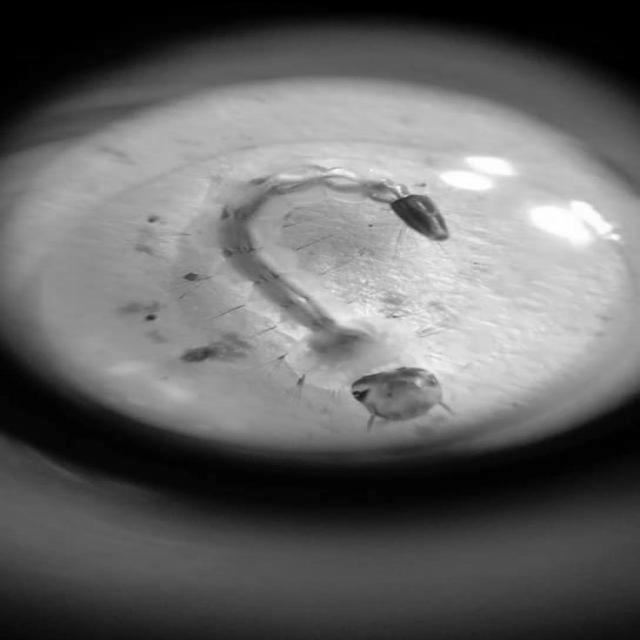larvas: (196, 155, 446, 420)
